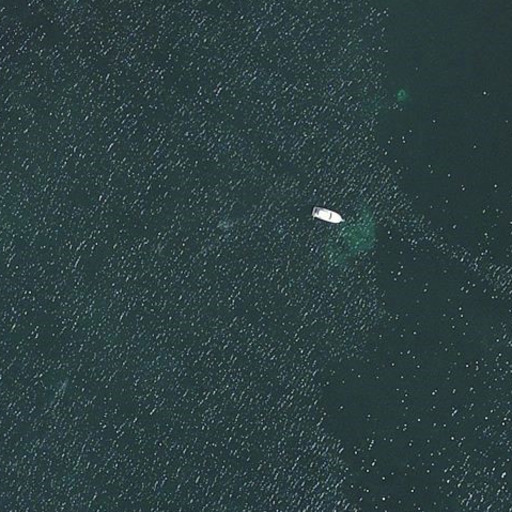ship: (309, 203, 347, 229)
